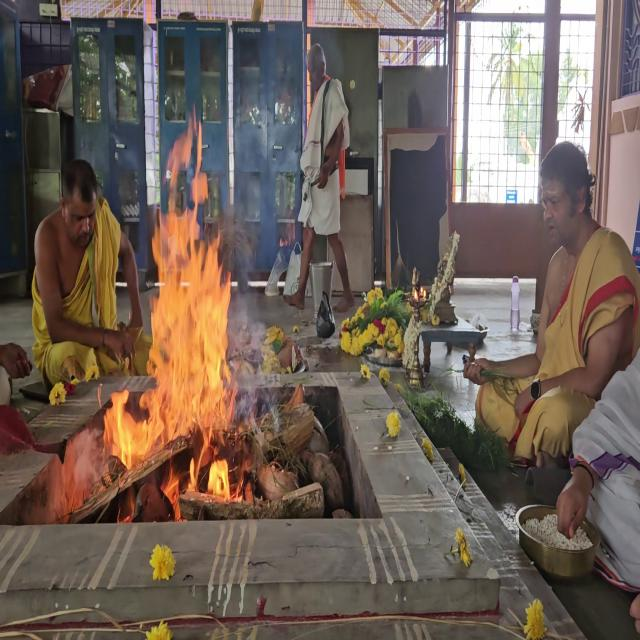fire: (91, 88, 243, 517)
